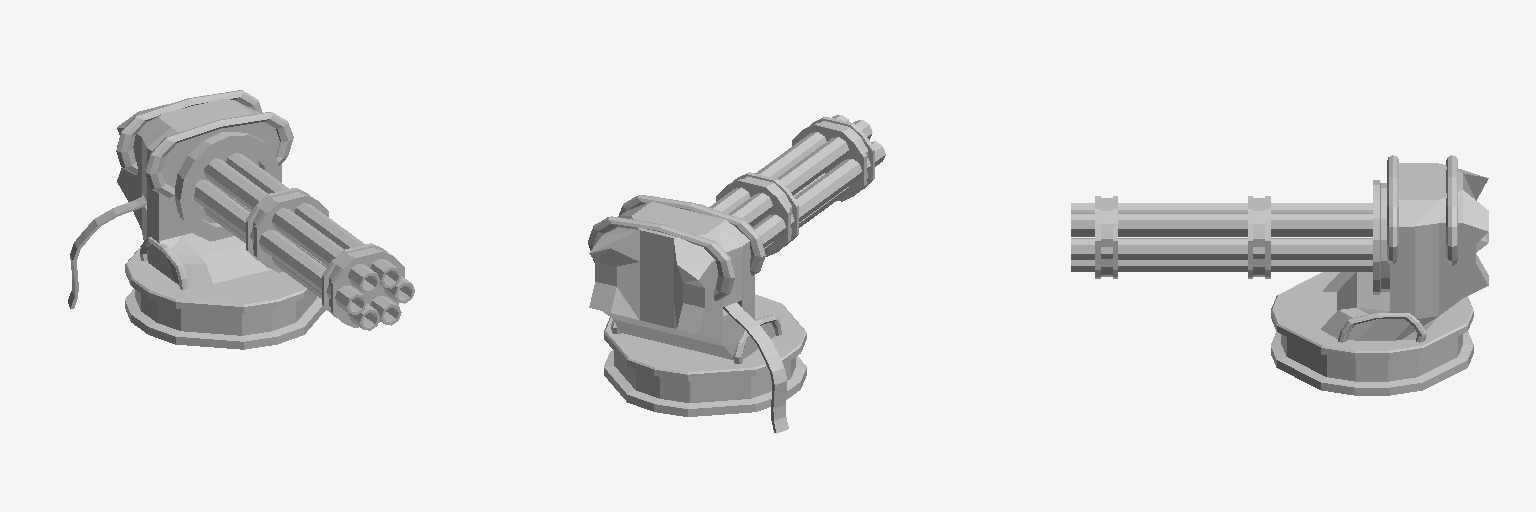
File: GattlingGun.obj
3 views of the same model, side by side, from view 1: azimuth 30°, elevation 25°; view 2: azimuth 150°, elevation 25°; view 3: azimuth 270°, elevation 25° (orthographic).
Bounding box in the file's own units: 5.04 × 4.16 × 8.82.